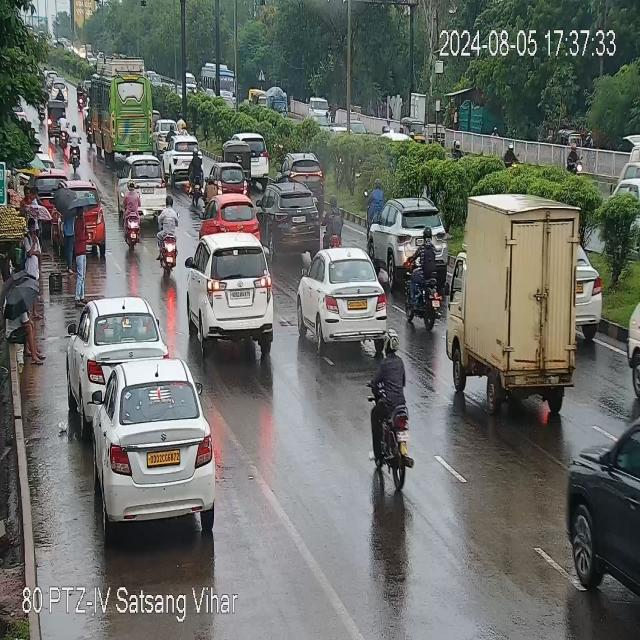2-wheelers: (372, 336, 415, 497), (405, 229, 448, 333), (152, 196, 178, 274), (122, 184, 143, 247), (324, 195, 345, 242), (186, 152, 204, 204), (67, 125, 82, 169), (58, 108, 69, 146)
auto: (223, 140, 251, 170), (400, 116, 428, 145), (46, 102, 67, 140)
bus: (90, 59, 153, 151), (202, 63, 239, 109)
car: (92, 361, 223, 526), (568, 410, 640, 610), (188, 238, 283, 358), (300, 247, 397, 347), (72, 297, 163, 397), (370, 197, 447, 266), (64, 174, 106, 255), (268, 186, 321, 247), (1, 298, 42, 366), (201, 198, 263, 236), (577, 246, 605, 330), (122, 154, 167, 200), (287, 151, 327, 190), (209, 159, 247, 197), (167, 134, 200, 170), (250, 136, 270, 181), (5, 292, 6, 297)
pedestrian: (22, 210, 46, 313), (71, 203, 87, 295)
truck: (444, 188, 586, 402)
